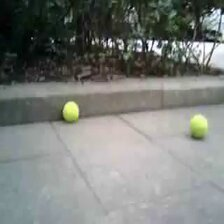tennis: (189, 114, 208, 138), (62, 100, 79, 120)
